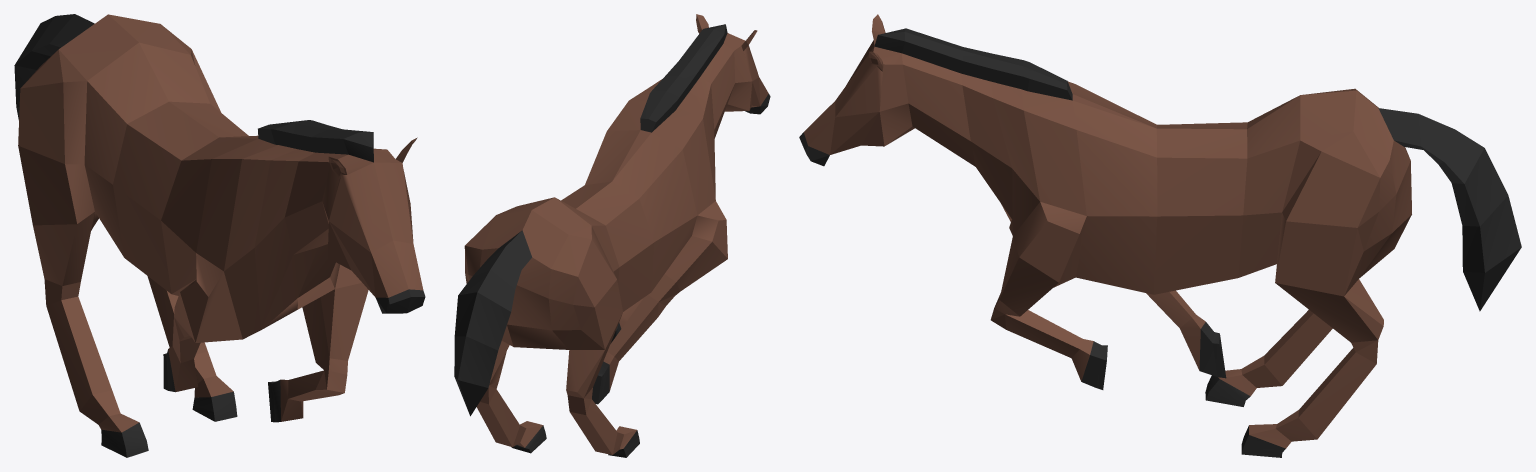
File: galop-horse.glb
3 views of the same model, side by side, from view 1: azimuth 30°, elevation 25°; view 2: azimuth 150°, elevation 25°; view 3: azimuth 270°, elevation 25° (orthographic). The views are drawn at different scales.
Parts seen in each view (by area): view 1: Cylinder, Cylinder_1; view 2: Cylinder, Cylinder_1; view 3: Cylinder, Cylinder_1.
Part boxes in pixels (<box>): Cylinder: <box>18,14,423,432</box>; Cylinder_1: <box>14,14,425,457</box>; Cylinder: <box>464,14,768,454</box>; Cylinder_1: <box>454,24,770,457</box>; Cylinder: <box>803,14,1411,448</box>; Cylinder_1: <box>799,28,1521,457</box>.
Size of the model in its own units: 0.6402 by 1.48 by 2.44.
